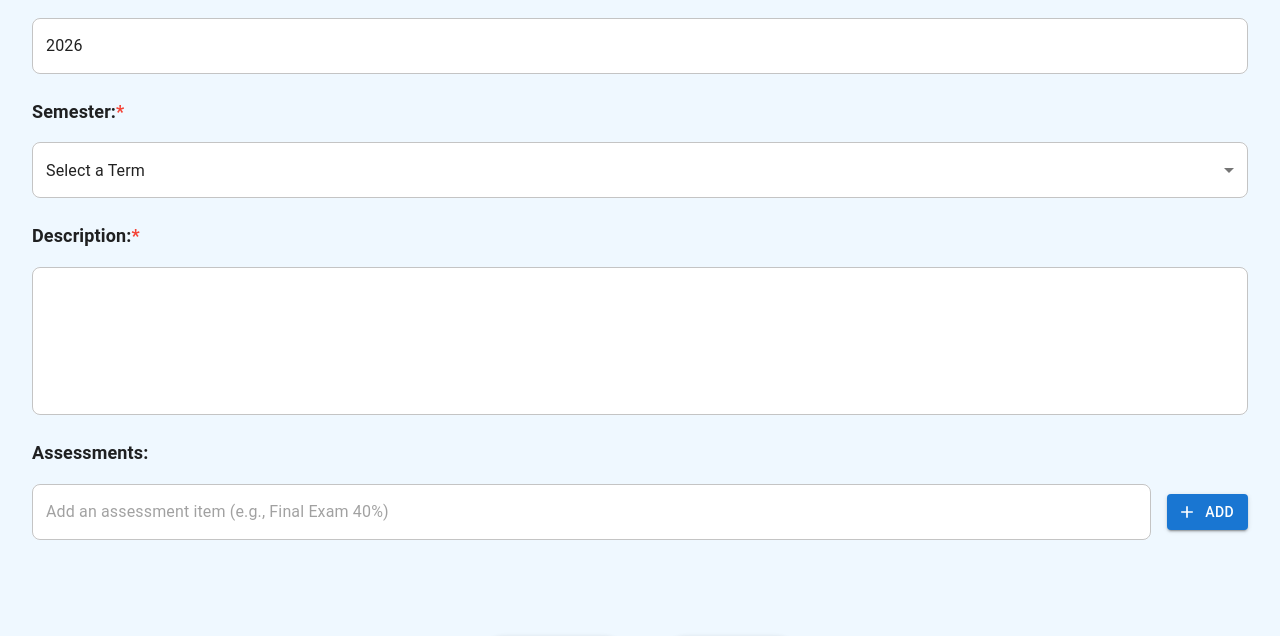
Test: CourseAddPage Component › should add and remove assessment fields dynamically
The image size is (1280, 636).
(page scrolled)
// Add a new assessment
Type "Midterm (30%)" into the field with placeholder "Add an assessment item (e.g., Final Exam 40%)". click: (592, 512)
box: [32, 484, 1151, 540]
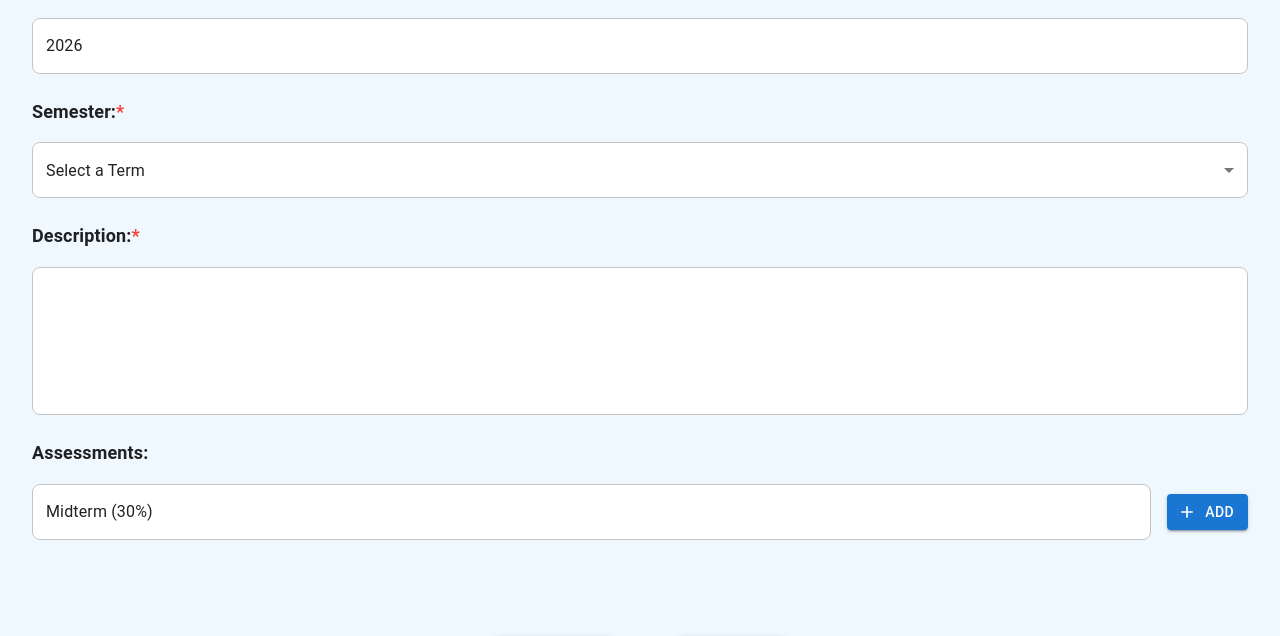
Click the button "Add". click: (1208, 512)
box: [1167, 494, 1248, 530]
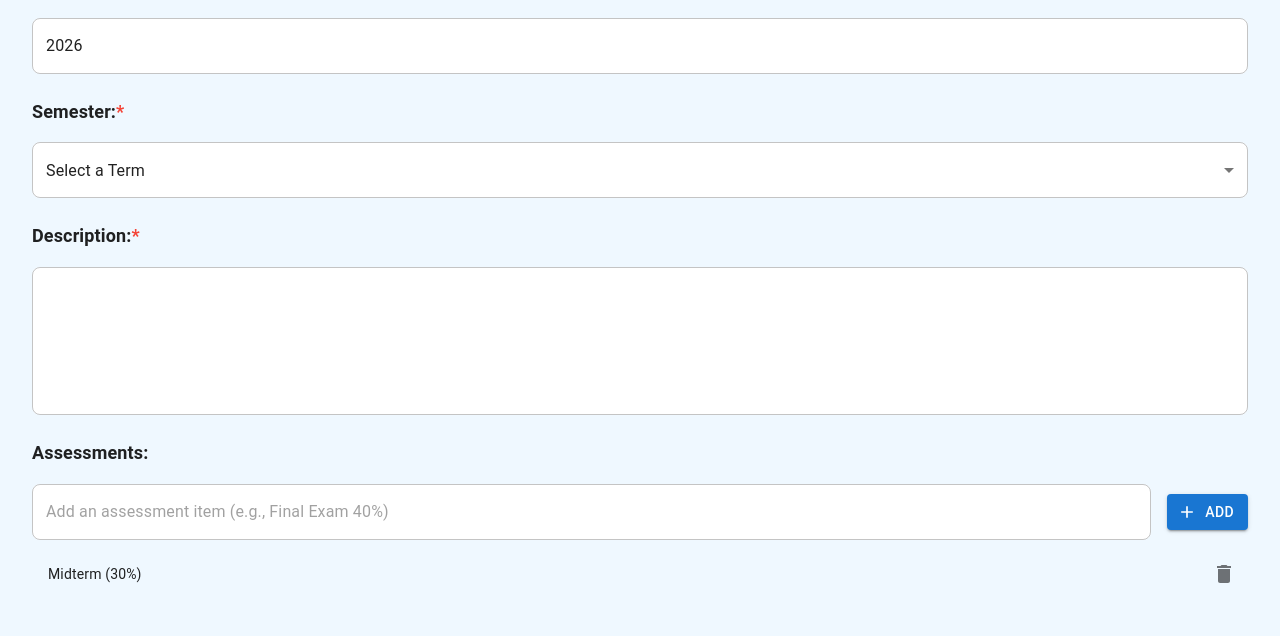
Now the text "Midterm (30%)" is shown, box [48, 566, 142, 582]
Click the button named "delete". click: (1224, 574)
box: [1204, 554, 1244, 594]
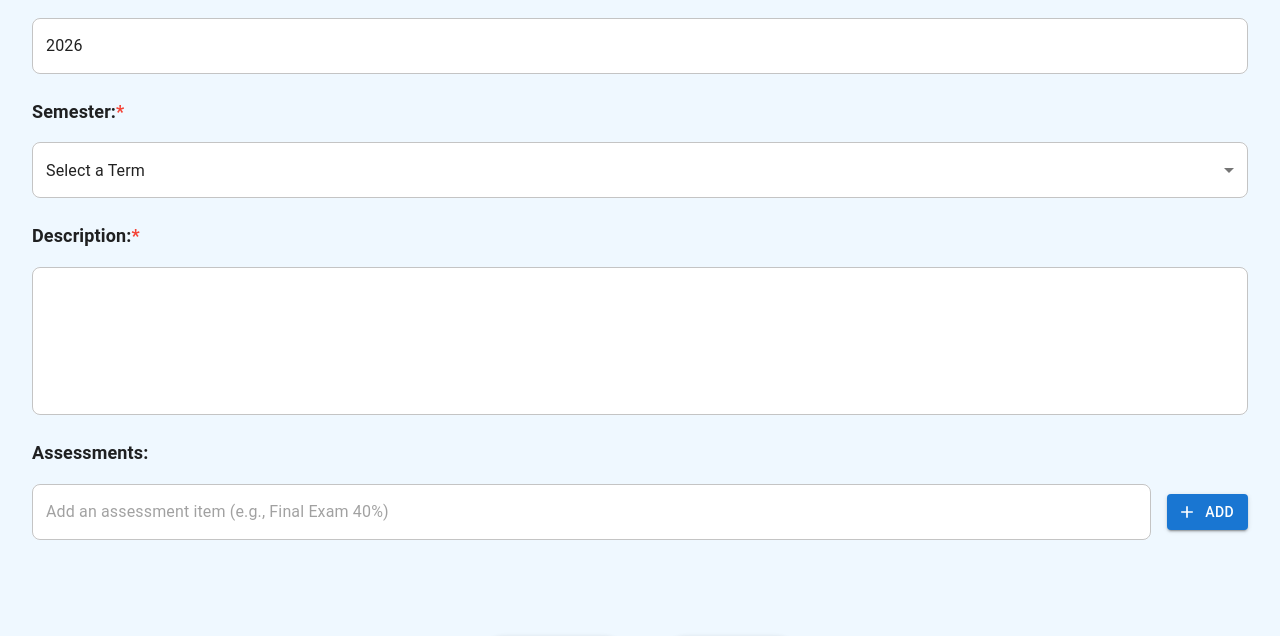
Now the text "Midterm (30%)" is gone
